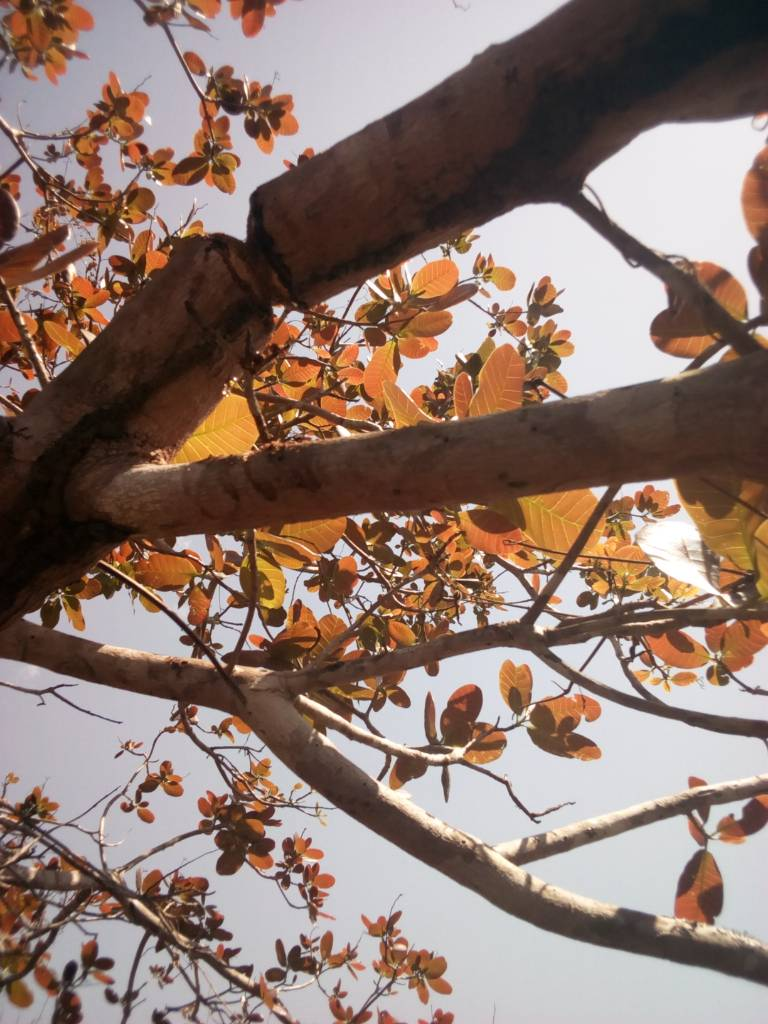Analepse trifasciata: (177, 163, 332, 371)
